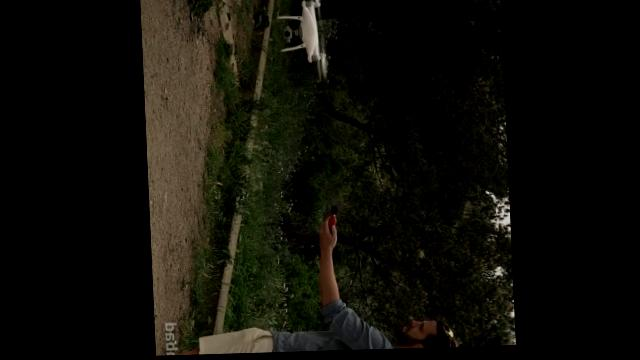drone: (276, 0, 330, 84)
